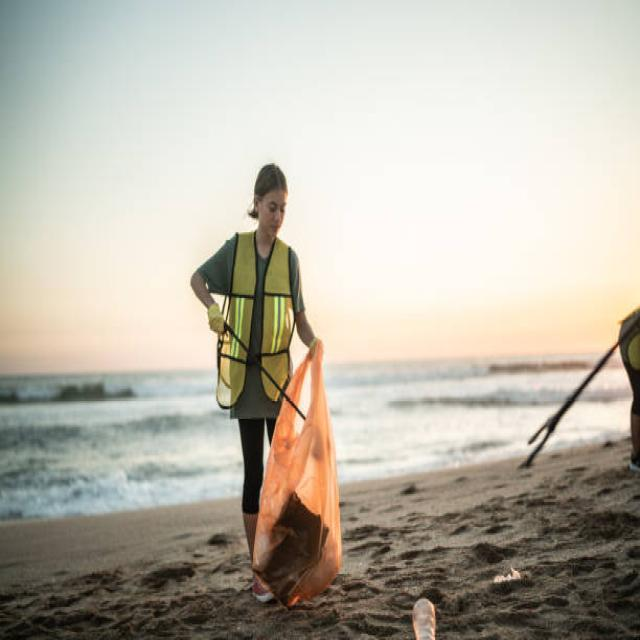plastic: (402, 596, 446, 637)
trash: (249, 338, 350, 614)
